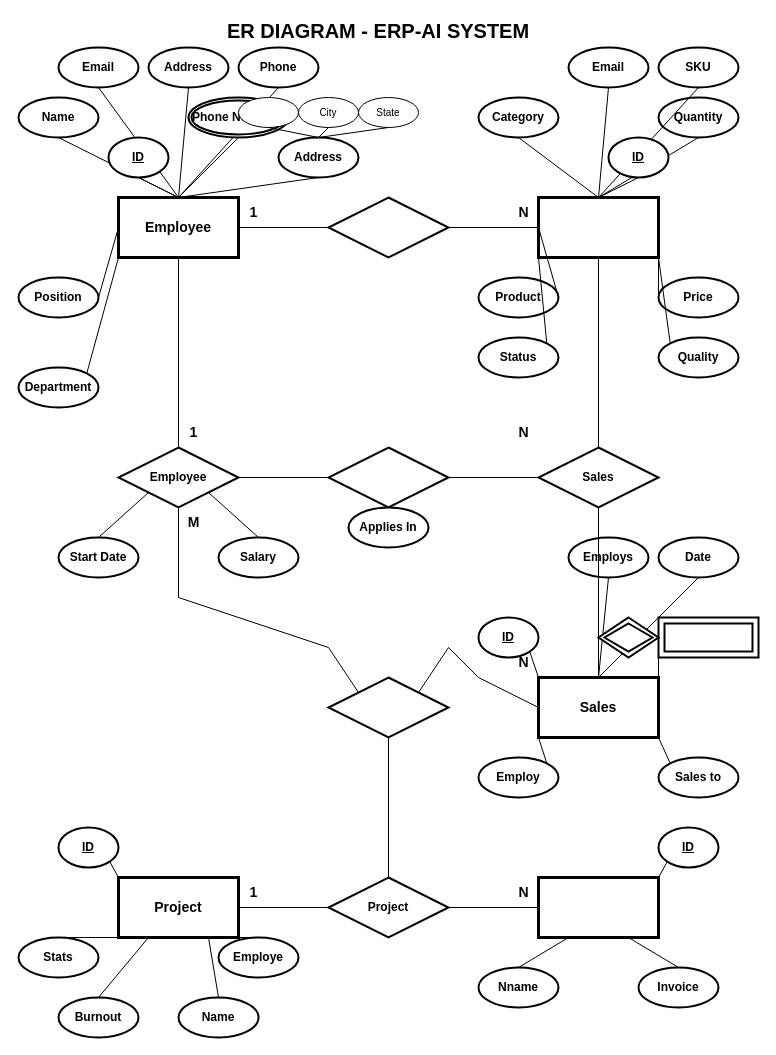
The diagram is 776 pixels wide and 1055 high, and some of its shapes have lost their labels. The centre of each missing label's shape, as x and y in pixels:
"Belongs To" goes at pixel 388 477.
"Company" goes at pixel 388 227.
"Contains" goes at pixel 628 637.
"Customer" goes at pixel 598 907.
"Inventory" goes at pixel 598 227.
"Order Item" goes at pixel 708 637.
"Street" goes at pixel 268 112.
"Work on" goes at pixel 388 707.
